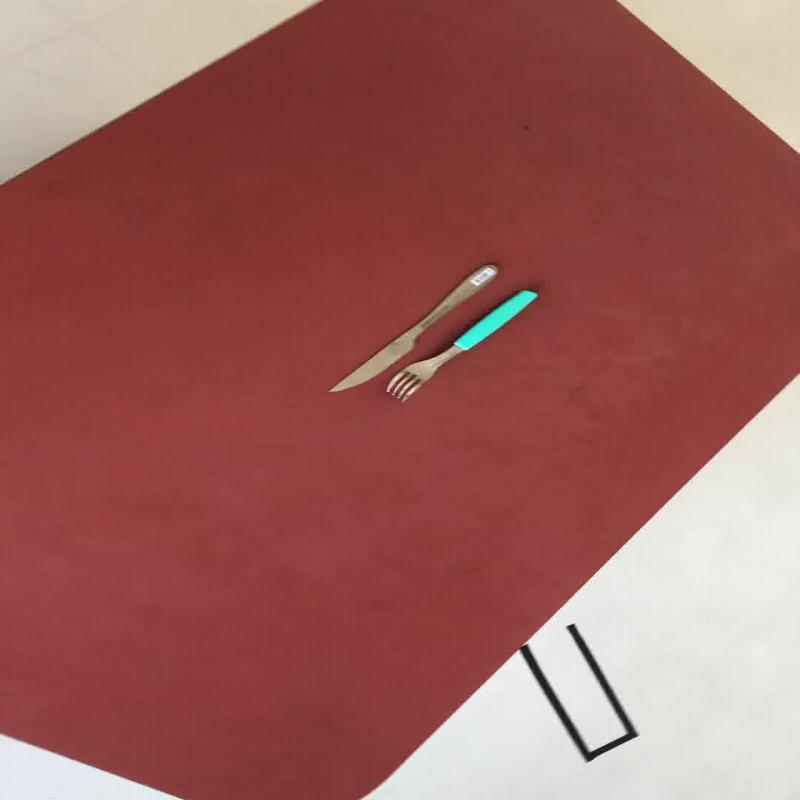fork: (382, 288, 538, 402)
knife: (325, 262, 499, 392)
